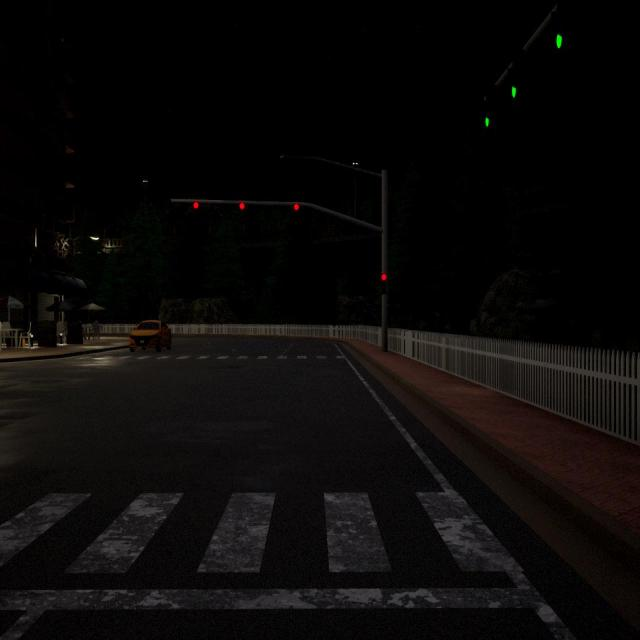Vehicle: (129, 320, 172, 353)
traffic_light: (381, 273, 387, 295), (556, 32, 562, 49), (511, 85, 517, 99), (484, 116, 490, 128), (193, 201, 199, 210), (294, 203, 300, 211), (240, 202, 245, 210)
